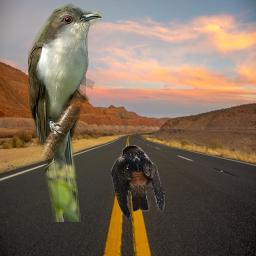Cuckoo: (28, 0, 102, 222)
Swallow: (111, 145, 165, 219)
